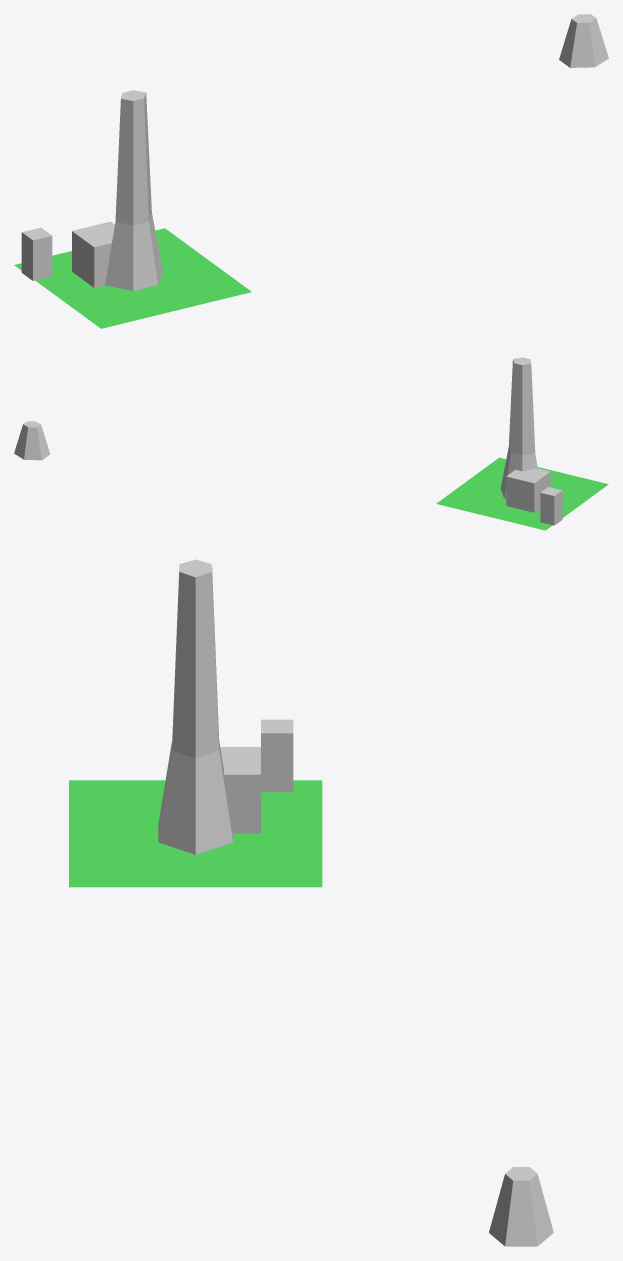
The picture shows the model from 3 angles, top to bottom: view 1: azimuth 30°, elevation 25°; view 2: azimuth 150°, elevation 25°; view 3: azimuth 270°, elevation 25°; orthographic projection. The views are drawn at different scales.
Parts seen in each view (by area): view 1: Plane.004, Plane.005, 4/4 Cube, Cube.001, Cube.006, Cube.005; view 2: Plane.004, Plane.005, 4/4 Cube, Cube.001, Cube.006, Cube.005; view 3: Plane.004, Plane.005, Cube.001, 4/4 Cube, Cube.006, Cube.005.
Boxes of the visible parts, box(x1,y1,x2,y2) form: Plane.004: box(14, 228, 251, 328); Plane.005: box(105, 90, 162, 290); 4/4 Cube: box(72, 221, 114, 287); Cube.001: box(559, 14, 608, 67); Cube.006: box(21, 227, 52, 260); Cube.005: box(21, 253, 52, 280); Plane.004: box(436, 457, 608, 530); Plane.005: box(500, 357, 537, 498); 4/4 Cube: box(506, 468, 550, 512); Cube.001: box(14, 421, 49, 460); Cube.006: box(540, 487, 562, 510); Cube.005: box(540, 505, 562, 525); Plane.004: box(69, 780, 322, 887); Plane.005: box(158, 559, 233, 854); Cube.001: box(489, 1167, 553, 1246); 4/4 Cube: box(220, 747, 260, 833); Cube.006: box(261, 719, 293, 762); Cube.005: box(261, 763, 293, 792).
Bounding box in the file's own units: 3400 × 901 × 1489.
